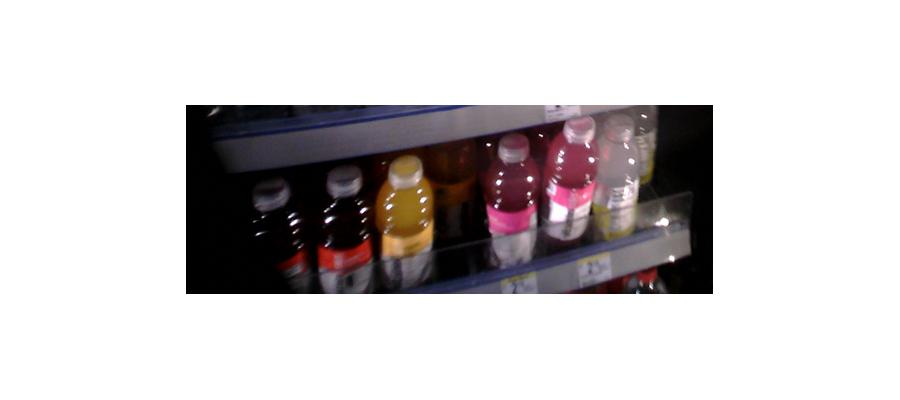bottle: (373, 153, 434, 289), (486, 133, 541, 269), (315, 168, 372, 296), (544, 115, 595, 250), (596, 113, 643, 239)
